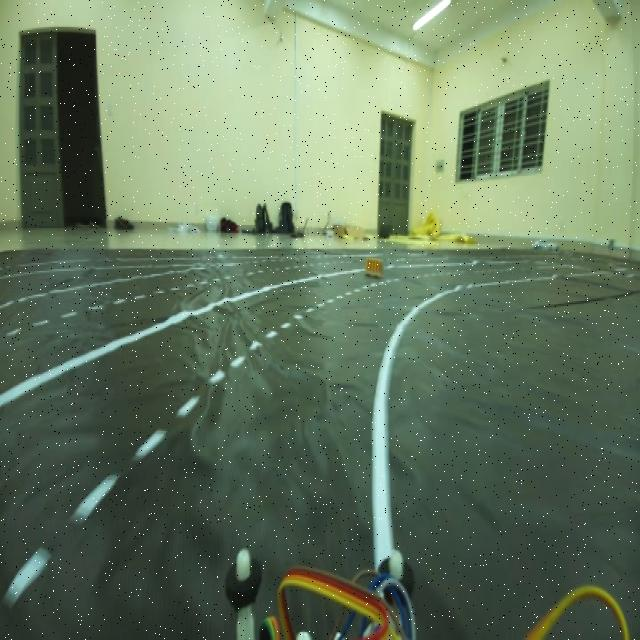roadblock: (364, 255, 386, 277)
